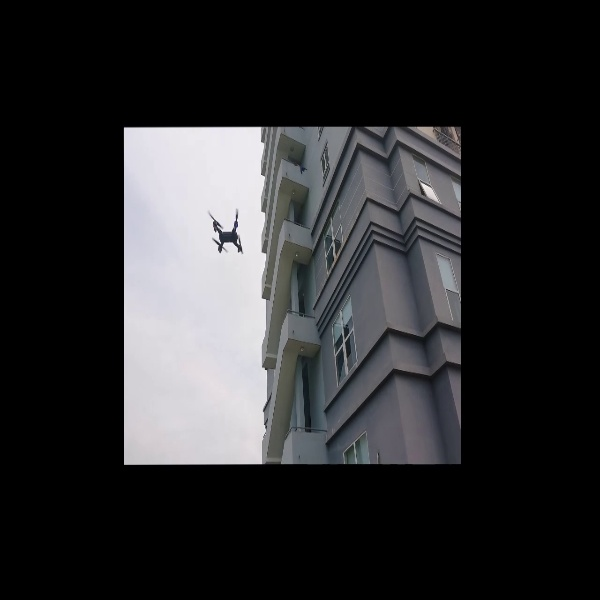drone: (203, 206, 251, 257)
